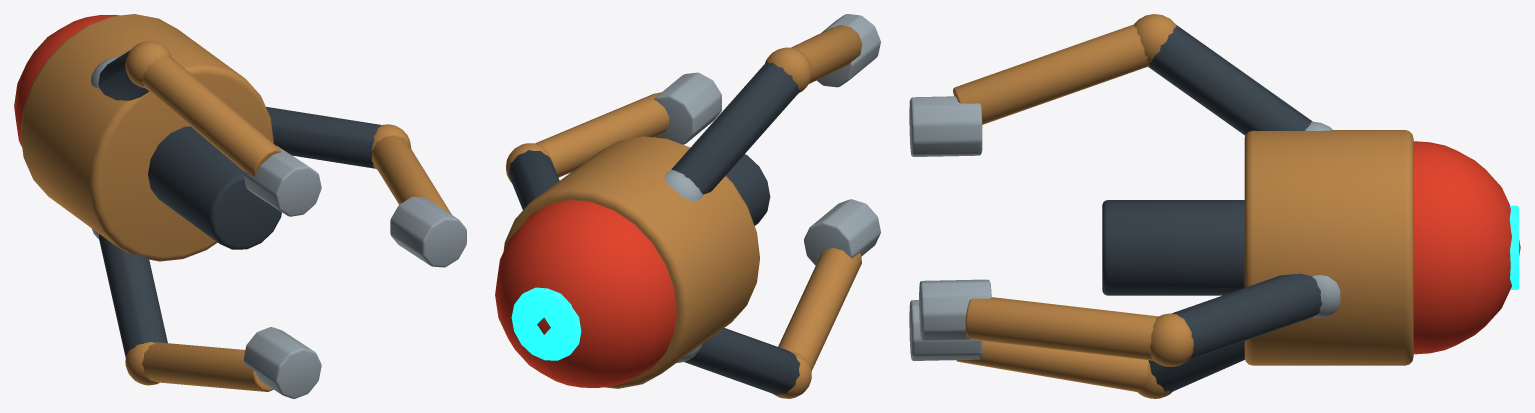
The model's file is grapple-claw.glb.
3 views of the same model, side by side, from view 1: azimuth 30°, elevation 25°; view 2: azimuth 150°, elevation 25°; view 3: azimuth 270°, elevation 25° (orthographic). The views are drawn at different scales.
Parts seen in each view (by area): view 1: GrappleV1_Claw_HubShell, GrappleV1_Claw_CableCollet, GrappleV1_Claw_JawHook_2, GrappleV1_Claw_JawUpper_0, GrappleV1_Claw_JawUpper_1, GrappleV1_Claw_JawHook_1, GrappleV1_Claw_JawTip_0, GrappleV1_Claw_JawTip_1, GrappleV1_Claw_JawTip_2, GrappleV1_Claw_JawHook_0, GrappleV1_Claw_HubCap, GrappleV1_Claw_JawUpper_2 (+3 smaller); view 2: GrappleV1_Claw_HubCap, GrappleV1_Claw_HubShell, GrappleV1_Claw_JawUpper_2, GrappleV1_Claw_JawHook_1, GrappleV1_Claw_JawHook_0, GrappleV1_Claw_JawUpper_1, GrappleV1_Claw_StatusLens, GrappleV1_Claw_JawTip_1, GrappleV1_Claw_JawTip_0, GrappleV1_Claw_JawHook_2, GrappleV1_Claw_JawUpper_0, GrappleV1_Claw_JawTip_2 (+5 smaller); view 3: GrappleV1_Claw_HubShell, GrappleV1_Claw_HubCap, GrappleV1_Claw_CableCollet, GrappleV1_Claw_JawHook_0, GrappleV1_Claw_JawHook_2, GrappleV1_Claw_JawUpper_2, GrappleV1_Claw_JawUpper_0, GrappleV1_Claw_JawHook_1, GrappleV1_Claw_JawTip_2, GrappleV1_Claw_JawTip_0, GrappleV1_Claw_JawUpper_1, GrappleV1_Claw_JawTip_1 (+4 smaller).
Part boxes in pixels (<box>): GrappleV1_Claw_HubShell: <box>20,14,273,261</box>; GrappleV1_Claw_CableCollet: <box>148,126,281,249</box>; GrappleV1_Claw_JawHook_2: <box>142,55,281,176</box>; GrappleV1_Claw_JawUpper_0: <box>266,107,381,168</box>; GrappleV1_Claw_JawUpper_1: <box>98,234,167,357</box>; GrappleV1_Claw_JawHook_1: <box>142,342,273,391</box>; GrappleV1_Claw_JawTip_0: <box>390,196,466,267</box>; GrappleV1_Claw_JawTip_1: <box>243,327,321,398</box>; GrappleV1_Claw_JawTip_2: <box>243,145,321,216</box>; GrappleV1_Claw_JawHook_0: <box>371,135,451,214</box>; GrappleV1_Claw_HubCap: <box>14,15,119,147</box>; GrappleV1_Claw_JawUpper_2: <box>98,50,149,100</box>; GrappleV1_Claw_HubCap: <box>495,200,676,387</box>; GrappleV1_Claw_HubShell: <box>503,136,759,388</box>; GrappleV1_Claw_JawUpper_2: <box>671,61,800,194</box>; GrappleV1_Claw_JawHook_1: <box>778,247,861,370</box>; GrappleV1_Claw_JawHook_0: <box>535,92,669,177</box>; GrappleV1_Claw_JawUpper_1: <box>684,328,800,395</box>; GrappleV1_Claw_StatusLens: <box>511,287,581,360</box>; GrappleV1_Claw_JawTip_1: <box>804,199,880,265</box>; GrappleV1_Claw_JawTip_0: <box>654,72,721,144</box>; GrappleV1_Claw_JawHook_2: <box>791,25,862,83</box>; GrappleV1_Claw_JawUpper_0: <box>508,150,559,209</box>; GrappleV1_Claw_JawTip_2: <box>817,14,880,87</box>; GrappleV1_Claw_HubShell: <box>1244,130,1413,365</box>; GrappleV1_Claw_HubCap: <box>1413,141,1520,354</box>; GrappleV1_Claw_CableCollet: <box>1102,200,1244,295</box>; GrappleV1_Claw_JawHook_0: <box>965,297,1158,360</box>; GrappleV1_Claw_JawHook_2: <box>953,24,1148,124</box>; GrappleV1_Claw_JawUpper_2: <box>1148,25,1312,135</box>; GrappleV1_Claw_JawUpper_0: <box>1171,273,1322,360</box>; GrappleV1_Claw_JawHook_1: <box>956,341,1148,391</box>; GrappleV1_Claw_JawTip_2: <box>909,96,982,156</box>; GrappleV1_Claw_JawTip_0: <box>919,279,991,340</box>; GrappleV1_Claw_JawUpper_1: <box>1148,341,1244,391</box>; GrappleV1_Claw_JawTip_1: <box>909,300,982,360</box>.
Size of the model in its own units: 0.1313 by 0.1489 by 0.217.
